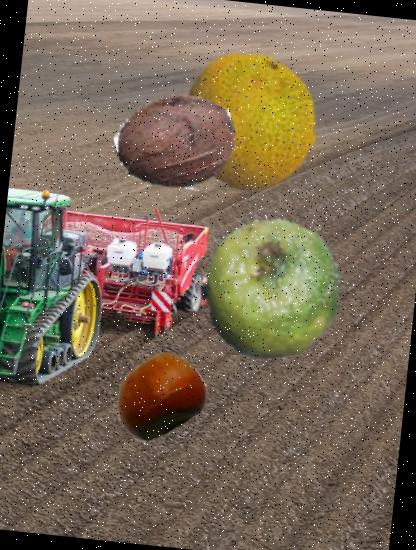Cantaloupe: (174, 48, 324, 197)
Cocos: (112, 79, 242, 210)
Limes: (191, 212, 348, 368)
Nut: (108, 345, 209, 446)
